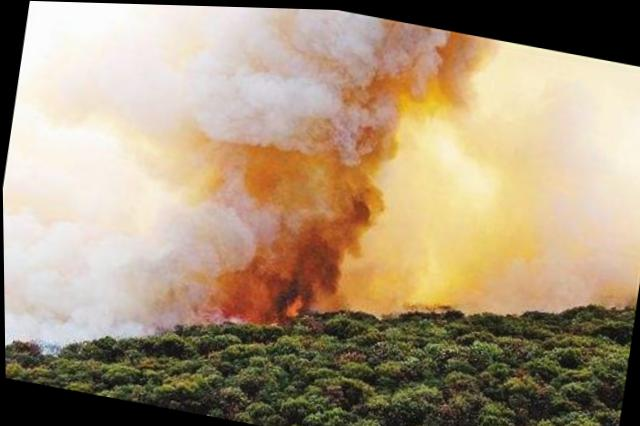fire: (204, 76, 527, 377)
